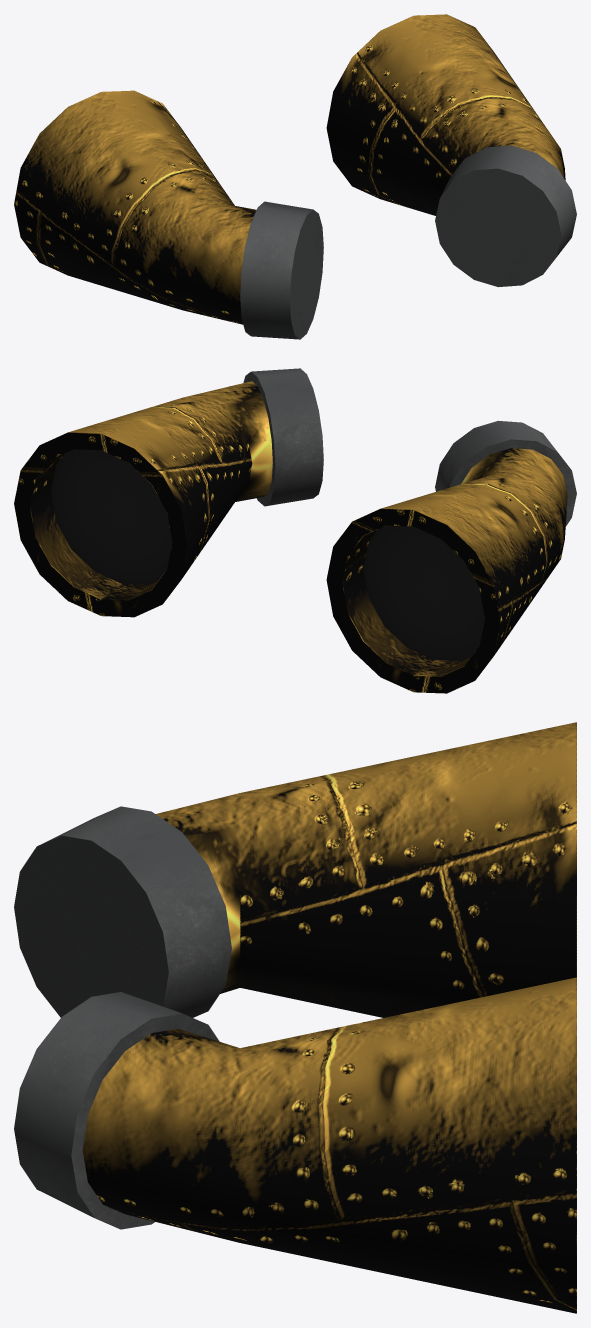
The model's file is nozzle3NEW.fbx.
3 views of the same model, one above another, from view 1: azimuth 30°, elevation 25°; view 2: azimuth 150°, elevation 25°; view 3: azimuth 270°, elevation 25° (orthographic). The views are drawn at different scales.
Visible parts, largest first — view 1: nozzle3NEW; view 2: nozzle3NEW; view 3: nozzle3NEW.
Boxes of the visible parts, box(x1,y1,x2,y2) form: nozzle3NEW: box(14, 14, 576, 339); nozzle3NEW: box(14, 368, 576, 693); nozzle3NEW: box(14, 722, 576, 1313).
Bounding box in the file's own units: 5.91 × 3.54 × 2.12.
